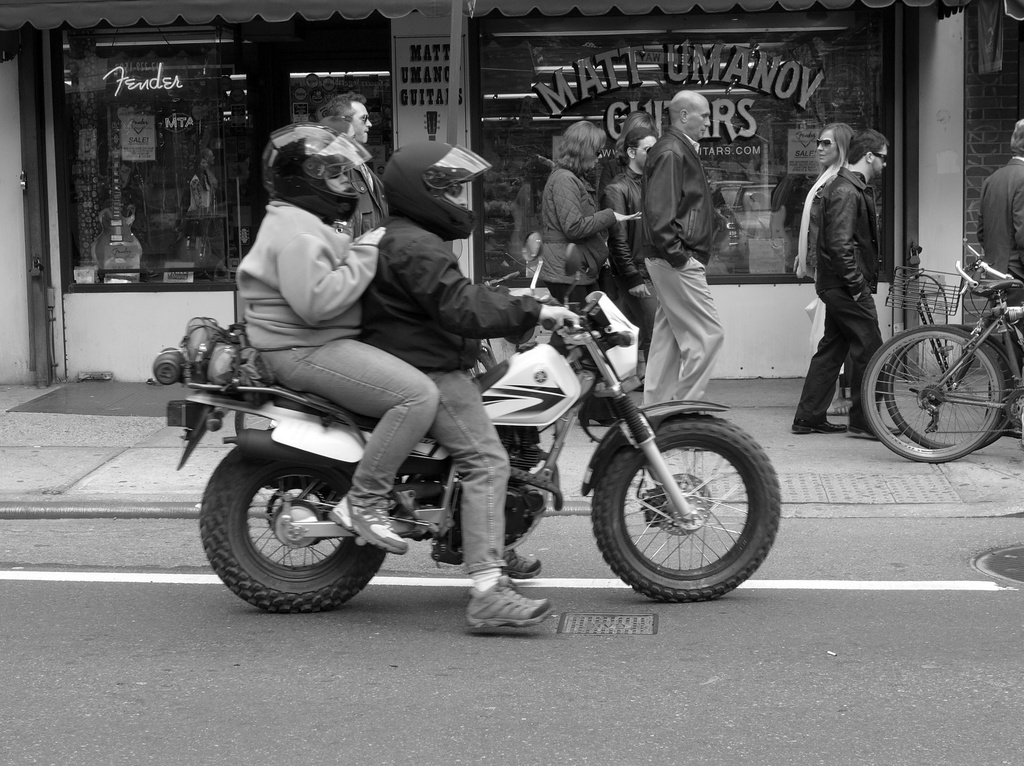Bike: (138, 298, 775, 627)
